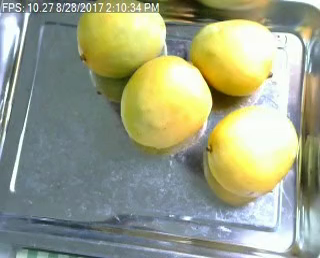Mango: (119, 55, 212, 147), (207, 108, 300, 199), (78, 0, 166, 80), (189, 17, 276, 96)
